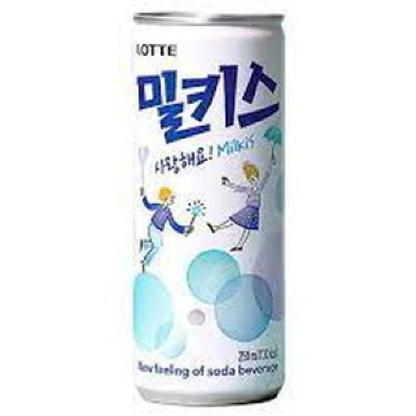Can: (122, 10, 288, 410)
